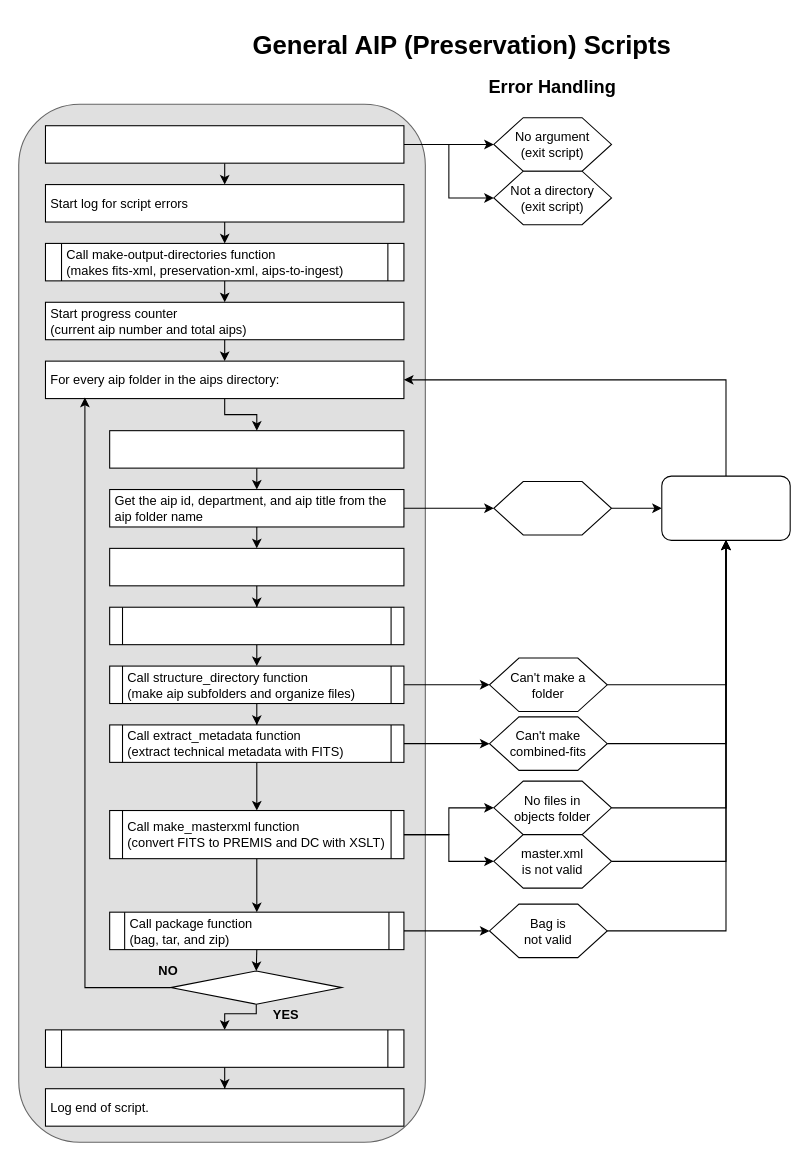
Image size: 809x1161. Some labels were removed from this diagram. The centre of each missing label's shape, as x and y in pixels:
Call delete_temp function (delete temporary files based on file name): (x=256, y=625)
Call make_manifest function (make md5 manifest for each department's AIPs): (x=224, y=1048)
Change current directory to aips directory (from script argument): (x=224, y=144)
Folder name format error: (x=552, y=507)
Last aip?: (x=256, y=987)
Move to error folder and start next aip: (x=725, y=507)
Rename the aip folder to the aip id: (x=256, y=566)
Update and print the progress counter: (x=256, y=449)
